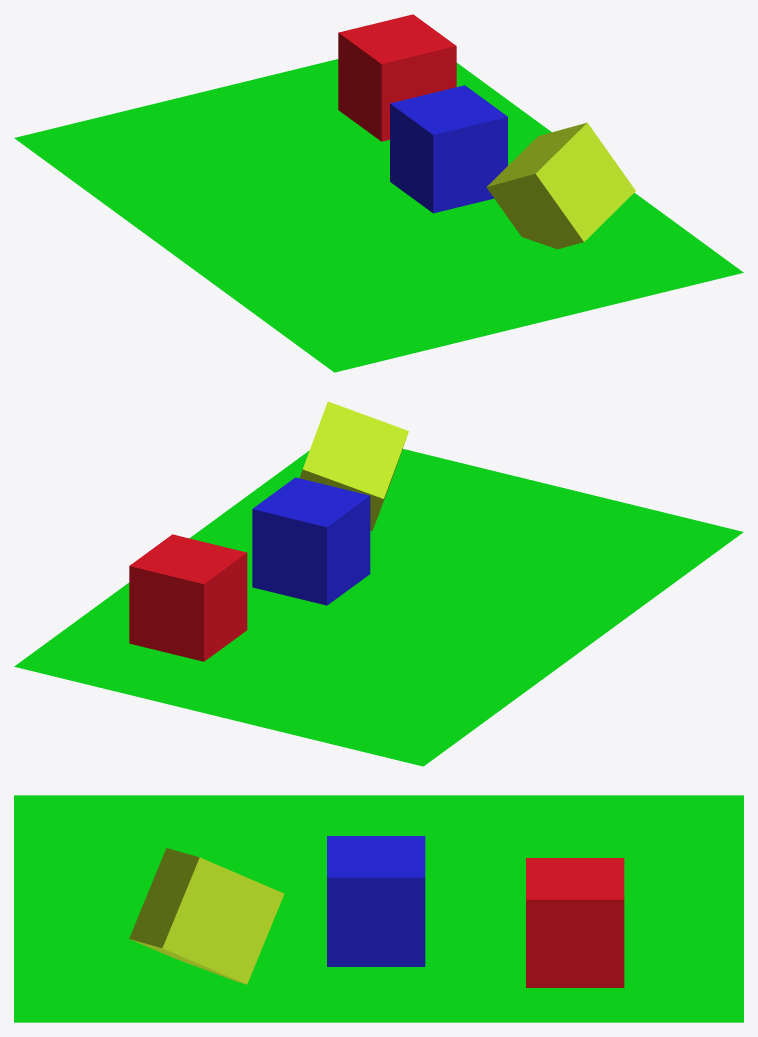
Rendered from road14.glb.
3 views of the same model, one above another, from view 1: azimuth 30°, elevation 25°; view 2: azimuth 150°, elevation 25°; view 3: azimuth 270°, elevation 25° (orthographic). The views are drawn at different scales.
Parts seen in each view (by area): view 1: Plane, Toplantı Salonu, Sanat Binası, Spor Salonu; view 2: Plane, Toplantı Salonu, Spor Salonu, Sanat Binası; view 3: Plane, Toplantı Salonu, Sanat Binası, Spor Salonu.
Part boxes in pixels (x1,y1,x2,y2): Plane: (14,59,743,372); Toplantı Salonu: (390,85,507,213); Sanat Binası: (486,122,635,249); Spor Salonu: (338,14,456,141); Plane: (14,449,743,766); Toplantı Salonu: (252,477,370,605); Spor Salonu: (129,534,247,661); Sanat Binası: (299,401,408,531); Plane: (14,795,743,1022); Toplantı Salonu: (327,836,425,966); Sanat Binası: (129,848,284,984); Spor Salonu: (526,858,624,987).
Bounding box in the file's own units: 10.94 × 3.22 × 14.83.
